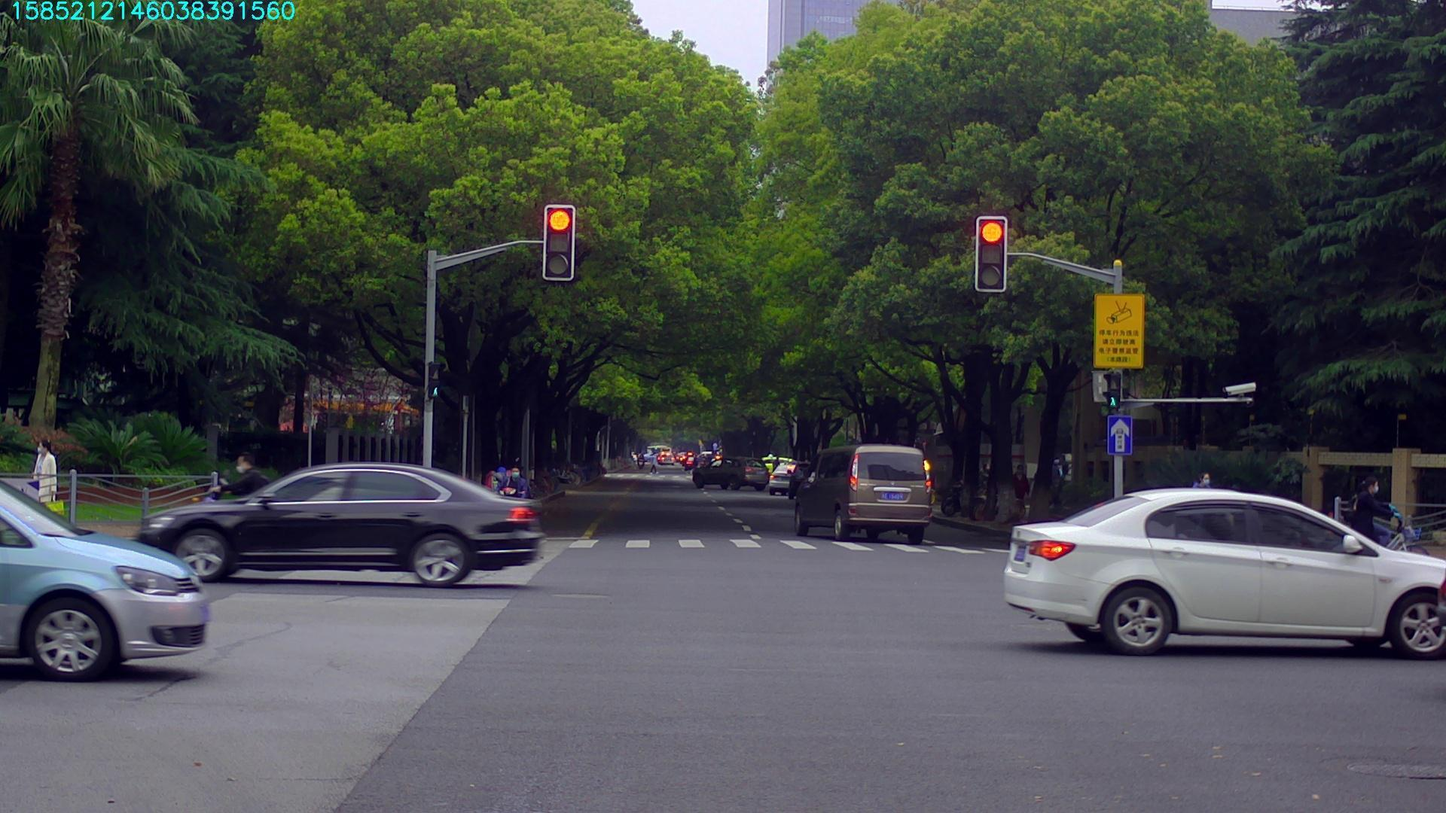red: (545, 205, 573, 280), (977, 217, 1003, 290)
